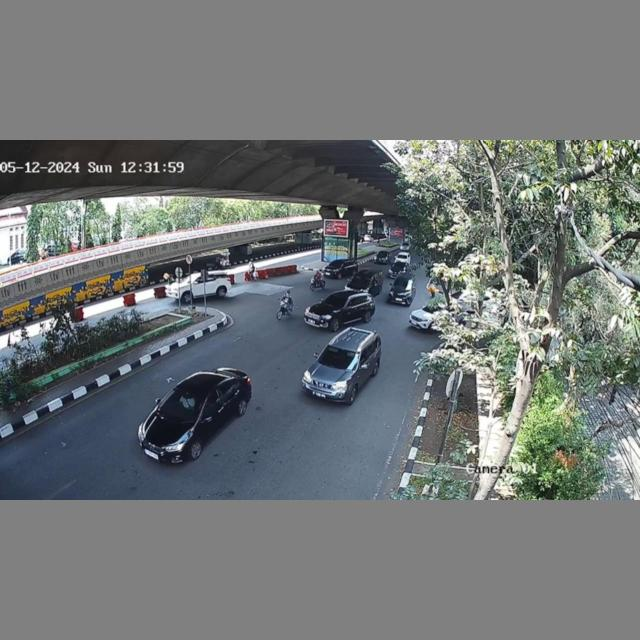windshield: (158, 389, 207, 423), (319, 347, 363, 370)
